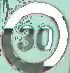Speed limit: (2, 1, 66, 72)
